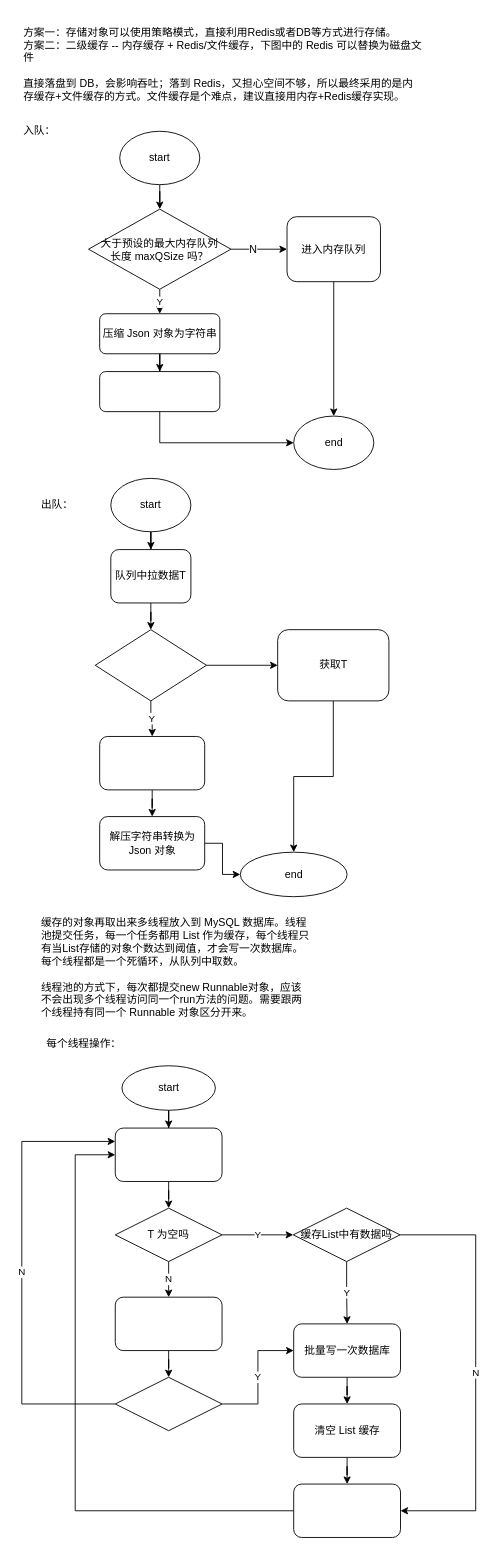
The diagram is 498 pixels wide and 1553 high, and some of its shapes have lost their labels. The shapes that lost their labels are listed below. From the top down, each one's box as (x1, y1, x2, y2) in pixels, then its label:
(99, 371, 220, 412): LeftPush 到 Redis
(94, 629, 206, 701): T为空吗
(99, 736, 205, 790): rightPop Redis 队列
(114, 1127, 222, 1181): 队列出队T
(114, 1296, 222, 1351): 将 T 放入缓存 List
(114, 1376, 222, 1431): List长度大于阈值吗
(293, 1483, 400, 1537): 休眠固定毫秒数
